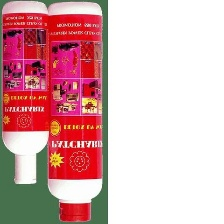cleaning_solution: (45, 0, 105, 223), (0, 0, 52, 186)
